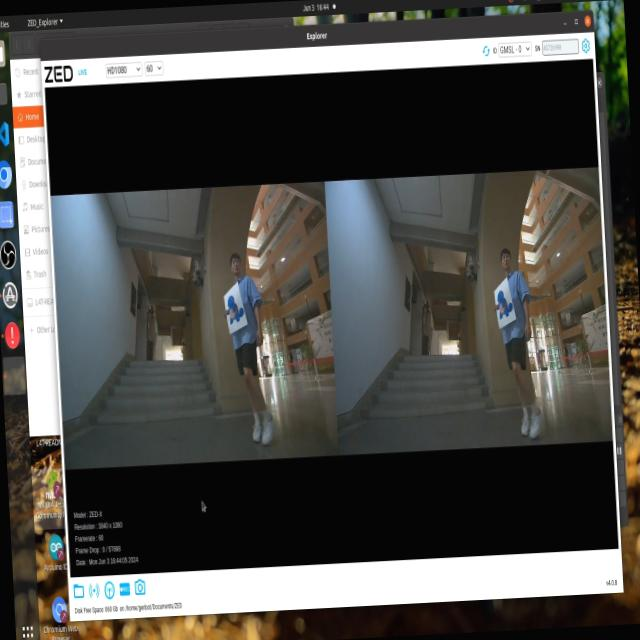blue: (494, 286, 512, 322), (224, 296, 244, 324)
